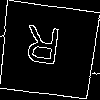R: (23, 24, 62, 75)
